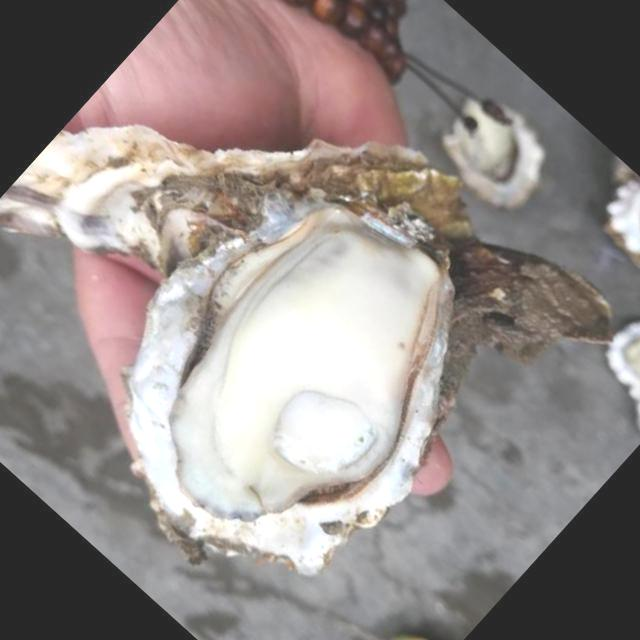Oyster-Closed: (0, 125, 607, 402)
Oyster-Open: (120, 204, 454, 556)
